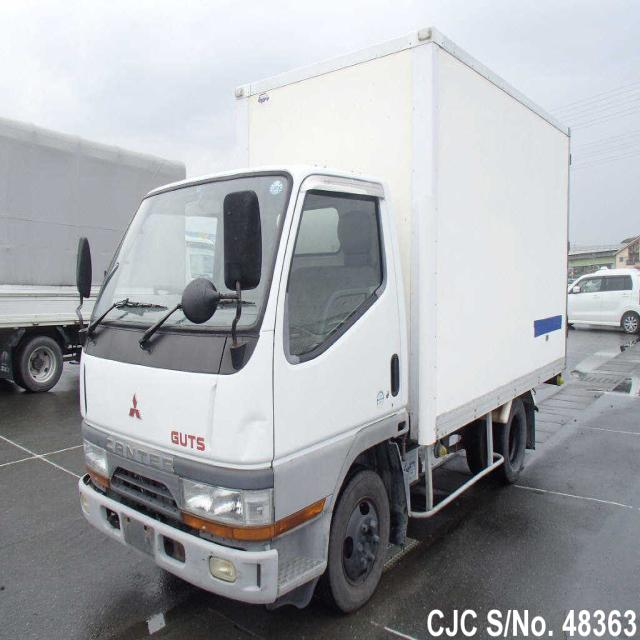truck: (75, 28, 566, 608)
